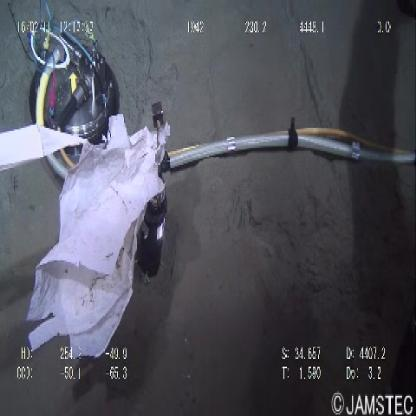Rov: (23, 11, 122, 146)
Rác: (1, 120, 176, 362)
